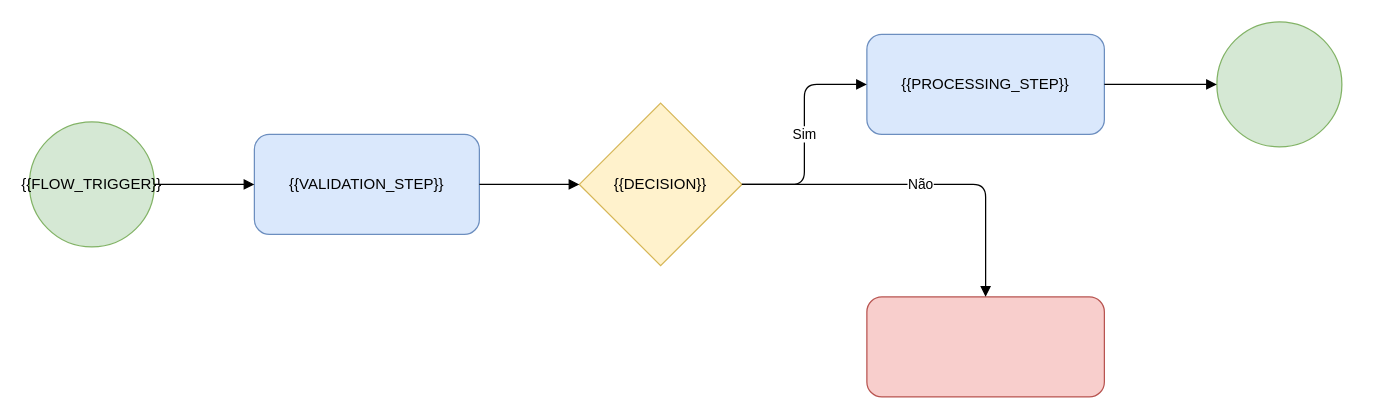
This 1380x419 diagram has some shape labels left out. Here are the shapes that lost their labels. From the top down, the centre of each, then its label:
At (1279,84): "{{SUCCESS_RESULT}}".
At (985,346): "{{ERROR_HANDLING}}".
